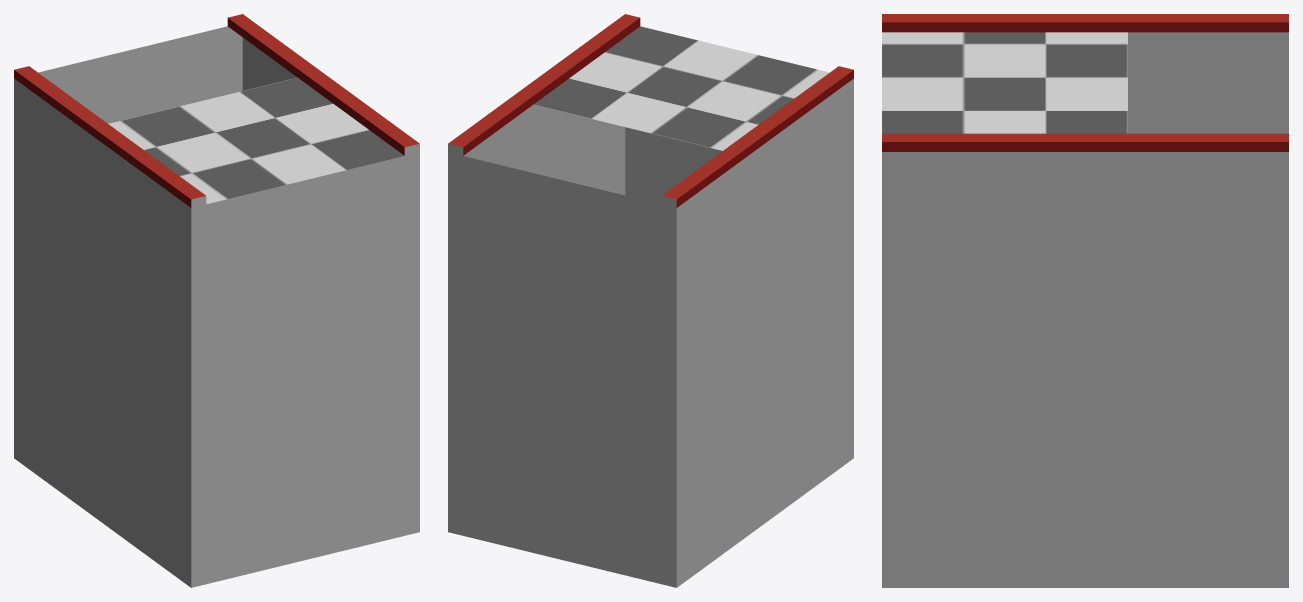
Rendered from Road_Curve_03.fbx.
3 renders of one model, left to right at view 1: azimuth 30°, elevation 25°; view 2: azimuth 150°, elevation 25°; view 3: azimuth 270°, elevation 25°, orthographic. The views are drawn at different scales.
Visible parts, largest first — view 1: Road_Curve_03, Road_Curve_03_Border; view 2: Road_Curve_03, Road_Curve_03_Border; view 3: Road_Curve_03, Road_Curve_03_Border.
Part boxes in pixels (left/top/right/bottom): Road_Curve_03: left=14, top=26, right=419, bottom=587; Road_Curve_03_Border: left=14, top=14, right=419, bottom=207; Road_Curve_03: left=448, top=26, right=853, bottom=587; Road_Curve_03_Border: left=448, top=14, right=853, bottom=207; Road_Curve_03: left=882, top=32, right=1288, bottom=587; Road_Curve_03_Border: left=882, top=14, right=1288, bottom=151.
Size of the model in its own units: 540 by 876 by 724.
